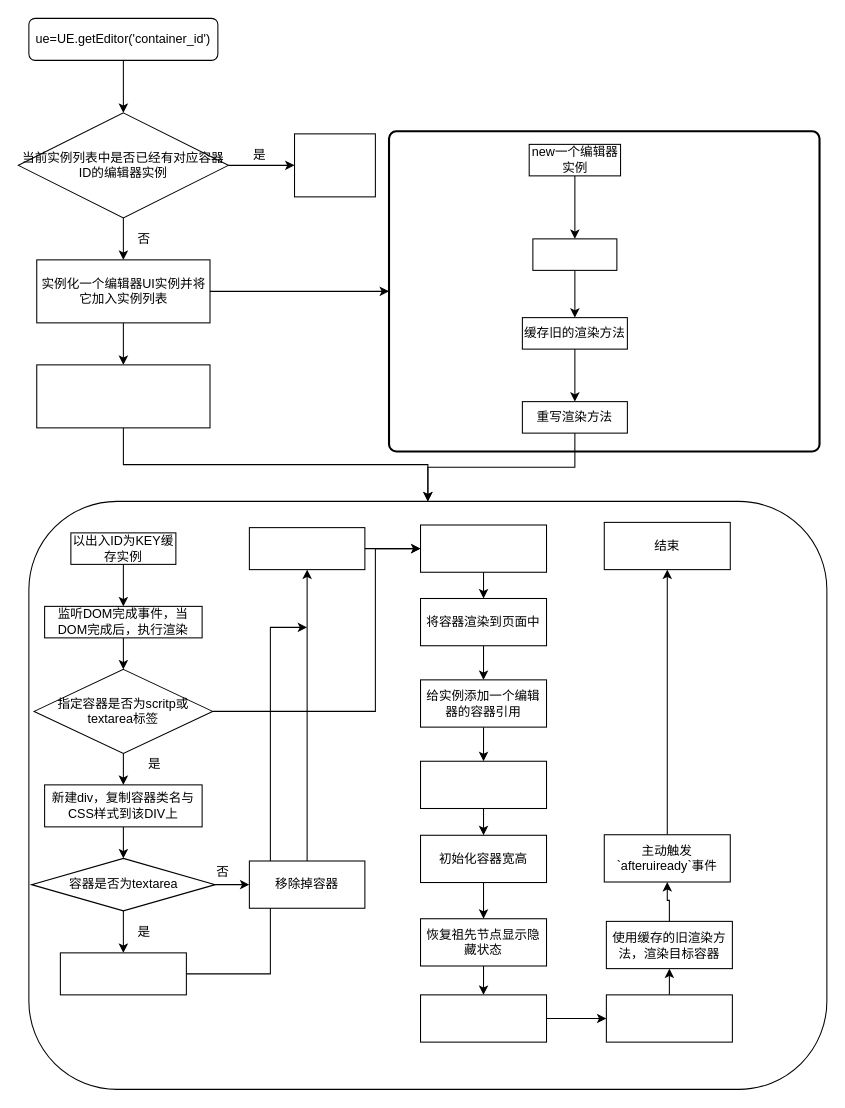
Image size: 845x1108. Some labels were removed from this diagram. Each missing label, with the centre of its shape:
"为容器设置宽高和z-idnex层级" belongs at [668,1018].
"为目标容器增加以‘edui-’为前缀的主题类名" belongs at [483,548].
"加载当前主题的样式文件" belongs at [574,254].
"如果容器自身设置了高度，则去掉" belongs at [483,1018].
"将容器祖先节点全部显示" belongs at [483,784].
"将新建的DIV作为目标容器使用" belongs at [306,548].
"将编辑器实例渲染到指定的DOM容器中" belongs at [123,396].
"返回已存在的实例对象" belongs at [334,165].
"隐藏掉原容器" belongs at [122,973].
